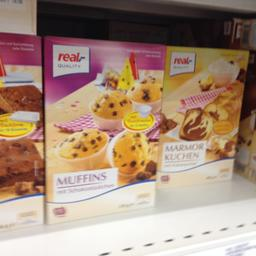cake: (42, 34, 164, 228), (161, 40, 250, 187)
